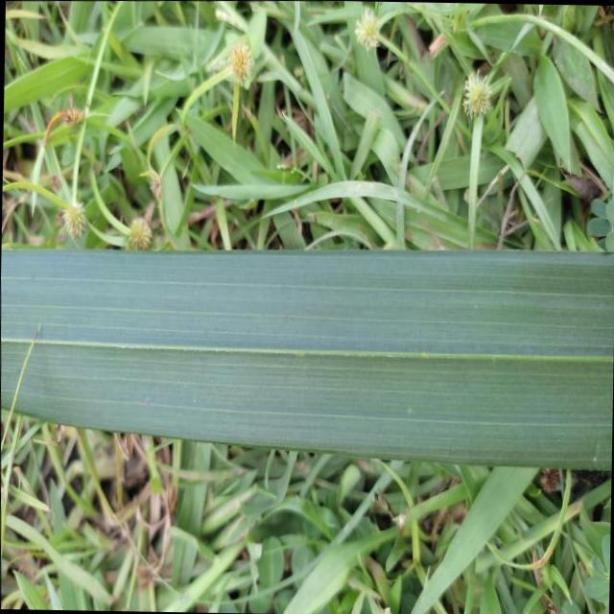Healthy: (0, 246, 614, 470)
